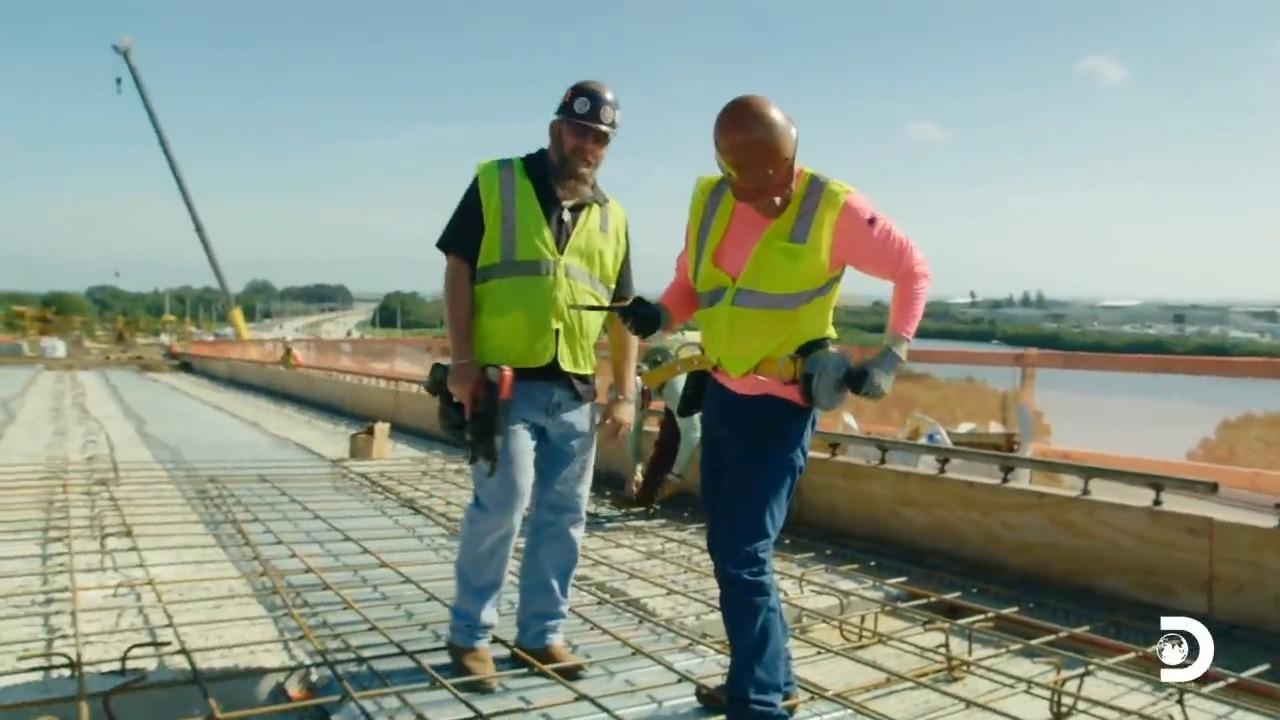Gloves: (851, 351, 900, 407), (623, 290, 663, 351)
Helmet: (712, 93, 798, 190), (553, 79, 619, 136)
Person: (612, 93, 931, 718), (434, 79, 638, 693)
Safety Boot: (699, 680, 794, 716), (451, 638, 503, 685), (511, 642, 573, 678)
Safety Vest: (478, 184, 608, 372), (692, 186, 819, 366)
bare-arms: (439, 355, 489, 417), (594, 390, 644, 434)
